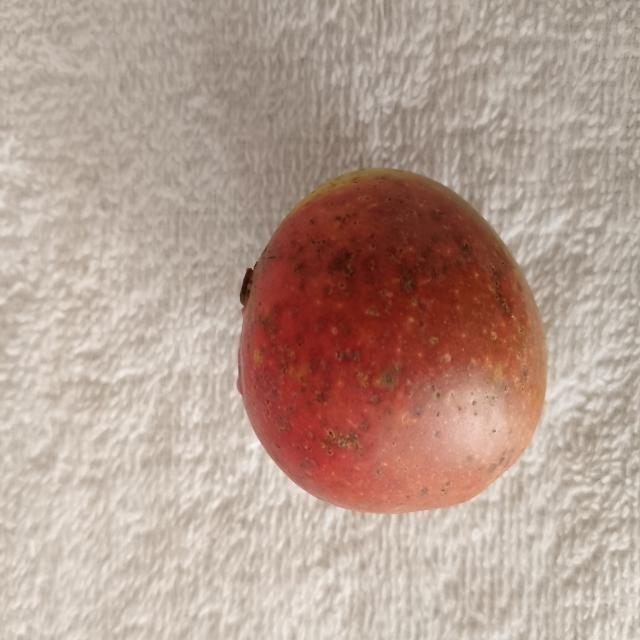mango: (230, 166, 550, 516)
